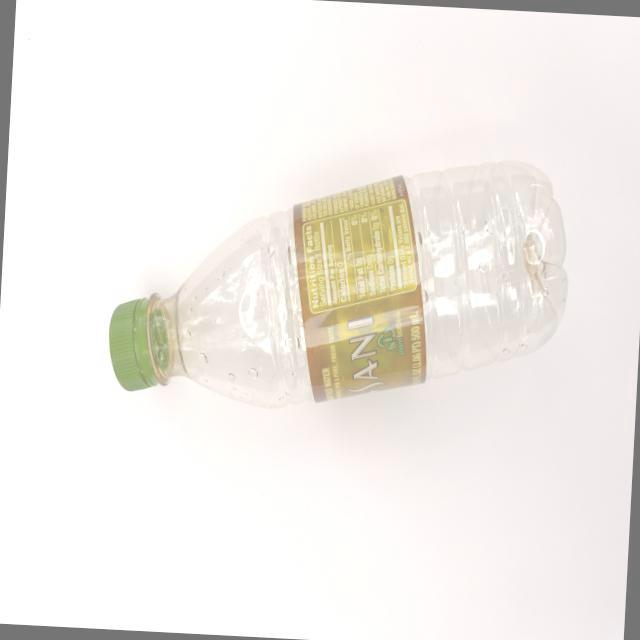plastic: (55, 102, 598, 503)
